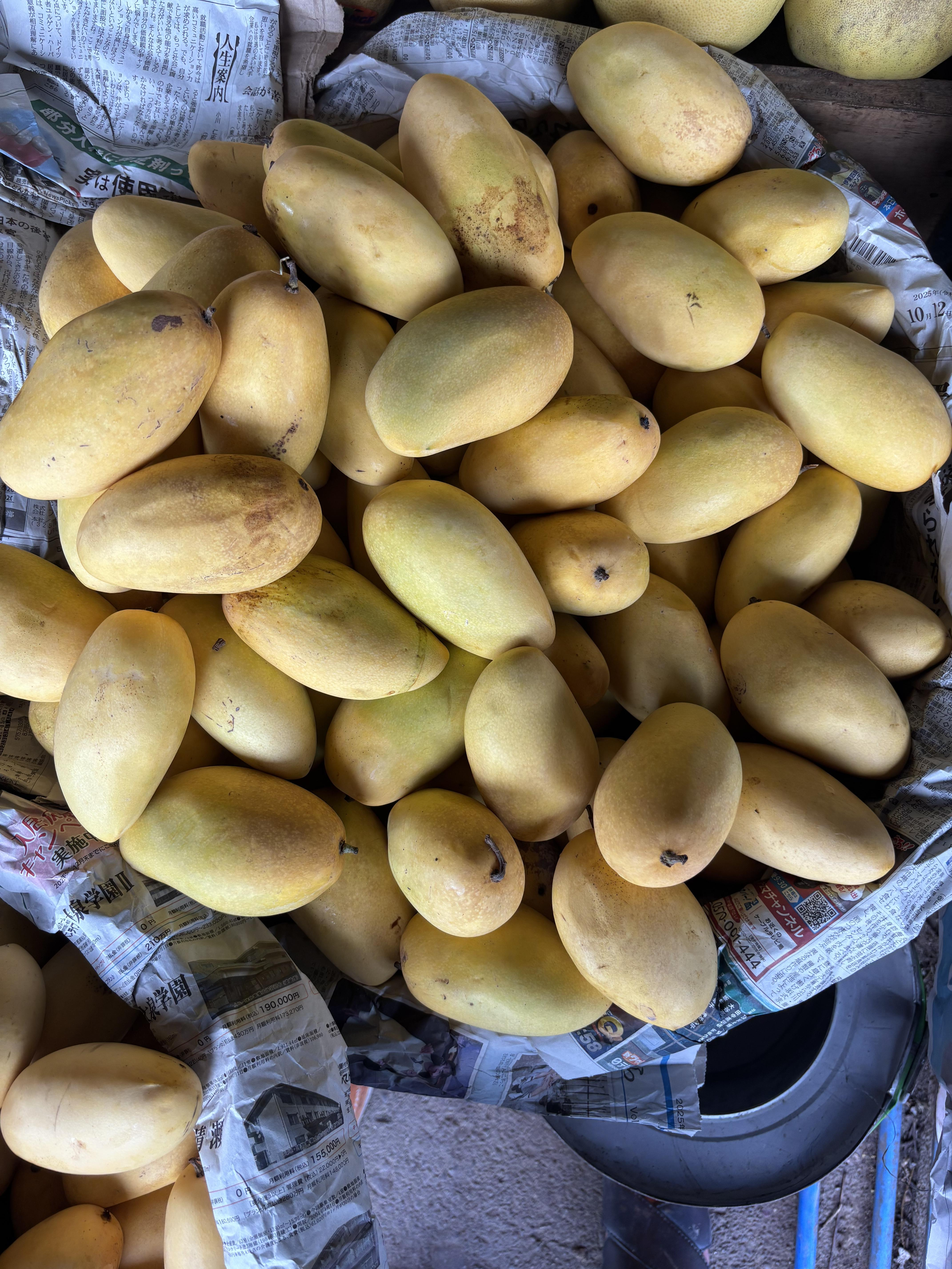mango: (0, 291, 220, 500), (365, 286, 573, 458), (263, 146, 463, 320), (362, 479, 555, 659), (77, 455, 322, 595), (762, 312, 952, 492), (120, 767, 345, 917), (720, 601, 910, 778), (54, 609, 195, 842), (572, 212, 764, 372), (567, 21, 752, 186), (592, 703, 742, 887), (0, 1043, 202, 1175), (464, 647, 600, 841), (388, 789, 524, 937)
occluded: (399, 74, 563, 290), (222, 554, 448, 700), (552, 831, 717, 1030), (160, 595, 319, 780), (598, 407, 802, 544), (199, 263, 330, 473), (401, 906, 609, 1036), (325, 644, 489, 806), (290, 788, 414, 986), (725, 743, 894, 886), (715, 465, 862, 629), (460, 395, 660, 515), (587, 574, 731, 724), (681, 168, 848, 286), (316, 287, 413, 486), (0, 545, 114, 702), (552, 256, 664, 403), (739, 279, 894, 375), (511, 510, 650, 617), (805, 580, 952, 679), (91, 195, 241, 291), (33, 942, 137, 1059), (142, 226, 278, 308), (548, 131, 641, 248), (39, 222, 130, 338), (63, 1132, 197, 1208), (189, 140, 280, 249), (263, 119, 403, 185), (652, 365, 774, 433), (0, 1205, 123, 1269), (0, 944, 46, 1106), (57, 494, 128, 593), (164, 1161, 225, 1269), (647, 535, 720, 623), (544, 614, 610, 710), (555, 325, 632, 397), (112, 1185, 172, 1269), (346, 478, 389, 590), (517, 832, 569, 920), (513, 129, 559, 222), (166, 717, 230, 776), (310, 516, 351, 565), (28, 701, 58, 755), (420, 445, 467, 477), (596, 737, 624, 780), (302, 449, 330, 490), (377, 135, 402, 172), (566, 805, 592, 840), (401, 459, 430, 479)
